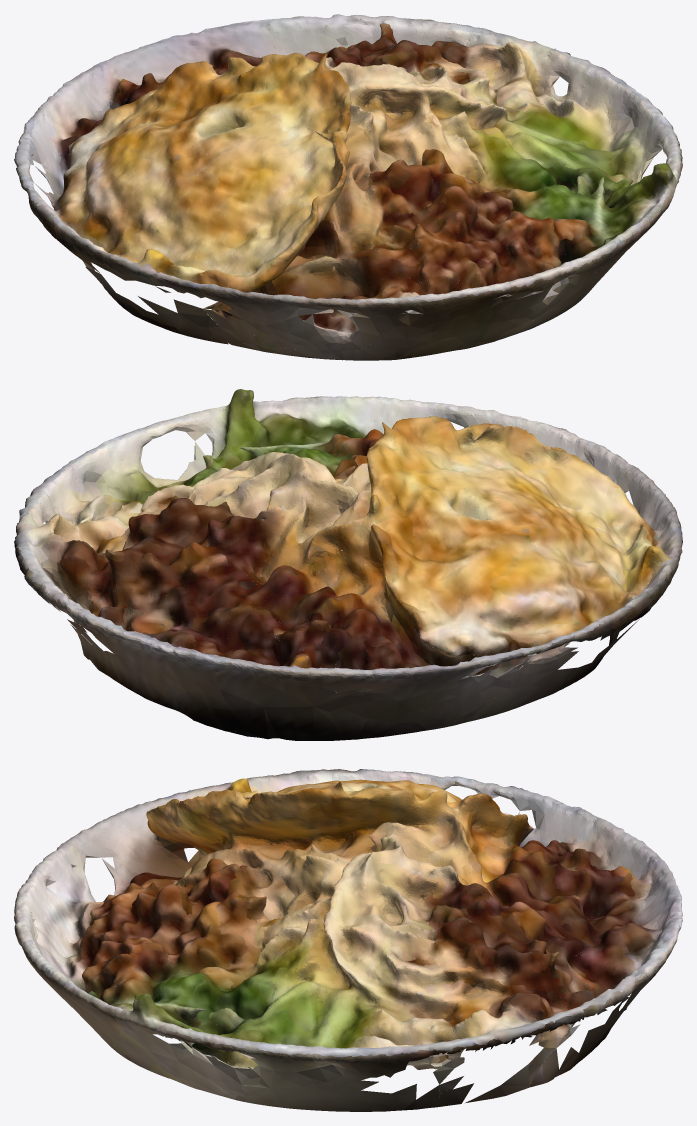
File: macarrao-molho-soja-mobile.glb
The picture shows the model from 3 angles, top to bottom: view 1: azimuth 30°, elevation 25°; view 2: azimuth 150°, elevation 25°; view 3: azimuth 270°, elevation 25°; orthographic projection.
Visible parts, largest first — view 1: mesh_main_1, mesh_main_0; view 2: mesh_main_1, mesh_main_0; view 3: mesh_main_0, mesh_main_1.
Boxes of the visible parts, <box> form: mesh_main_1: <box>14,14,682,360</box>; mesh_main_0: <box>15,14,682,360</box>; mesh_main_1: <box>17,396,682,740</box>; mesh_main_0: <box>14,389,678,737</box>; mesh_main_0: <box>14,769,663,1103</box>; mesh_main_1: <box>14,770,682,1111</box>.
Size of the model in its own units: 0.2195 by 0.074 by 0.218.
Materials: 1 (1 with a texture image).
